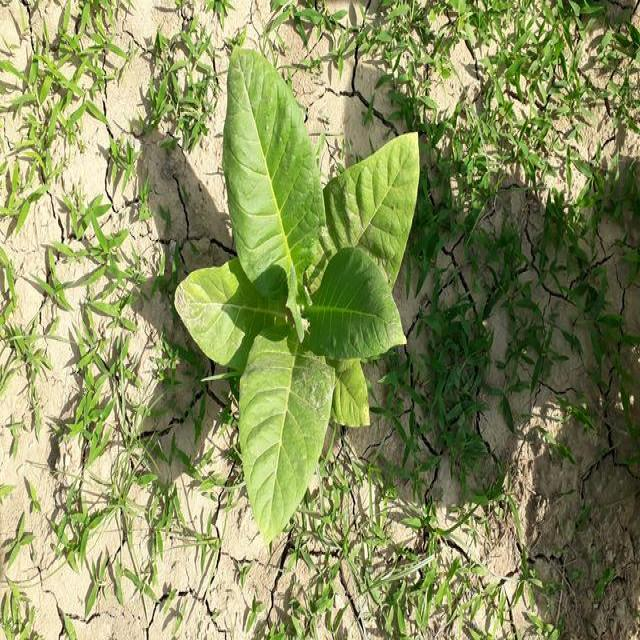crop: (191, 58, 415, 523)
